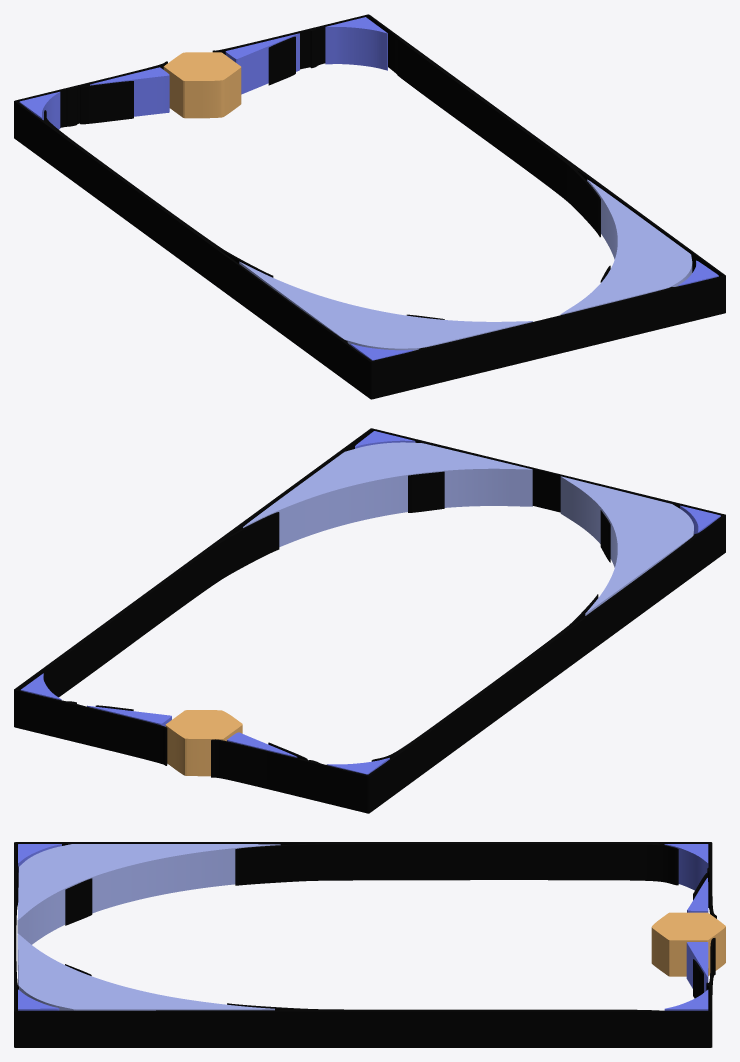
The picture shows the model from 3 angles, top to bottom: view 1: azimuth 30°, elevation 25°; view 2: azimuth 150°, elevation 25°; view 3: azimuth 270°, elevation 25°; orthographic projection. The views are drawn at different scales.
Parts seen in each view (by area): view 1: imagetostl_mesh4, imagetostl_mesh1, imagetostl_mesh3, imagetostl_mesh5, imagetostl_mesh26, imagetostl_mesh20, imagetostl_mesh6, imagetostl_mesh27, imagetostl_mesh16, imagetostl_mesh14, imagetostl_mesh8, imagetostl_mesh2; view 2: imagetostl_mesh4, imagetostl_mesh2, imagetostl_mesh1, imagetostl_mesh3, imagetostl_mesh5, imagetostl_mesh0, imagetostl_mesh26, imagetostl_mesh27, imagetostl_mesh12; view 3: imagetostl_mesh4, imagetostl_mesh0, imagetostl_mesh1, imagetostl_mesh3, imagetostl_mesh5, imagetostl_mesh26, imagetostl_mesh27, imagetostl_mesh10, imagetostl_mesh18, imagetostl_mesh2, imagetostl_mesh15, imagetostl_mesh17 (+4 smaller).
Boxes of the visible parts, x1,y1,x2,y2 form: imagetostl_mesh4: (14,15,725,399); imagetostl_mesh1: (240,262,532,348); imagetostl_mesh3: (561,179,692,314); imagetostl_mesh5: (14,14,725,362); imagetostl_mesh26: (163,67,241,118); imagetostl_mesh20: (325,27,387,70); imagetostl_mesh6: (80,81,133,124); imagetostl_mesh27: (164,52,240,80); imagetostl_mesh16: (90,75,169,116); imagetostl_mesh14: (225,33,299,94); imagetostl_mesh8: (268,37,295,85); imagetostl_mesh2: (560,180,692,314); imagetostl_mesh4: (14,429,725,813); imagetostl_mesh2: (243,468,532,547); imagetostl_mesh1: (561,476,693,613); imagetostl_mesh3: (243,442,532,527); imagetostl_mesh5: (14,428,725,776); imagetostl_mesh0: (560,477,693,615); imagetostl_mesh26: (165,725,242,776); imagetostl_mesh27: (165,710,242,738); imagetostl_mesh12: (408,471,444,512); imagetostl_mesh4: (14,843,716,1047); imagetostl_mesh0: (17,844,280,944); imagetostl_mesh1: (17,844,278,919); imagetostl_mesh3: (17,933,274,1009); imagetostl_mesh5: (14,842,716,1011); imagetostl_mesh26: (651,927,725,976); imagetostl_mesh27: (652,912,725,940); imagetostl_mesh10: (65,878,92,925); imagetostl_mesh18: (664,844,708,890); imagetostl_mesh2: (17,935,274,1010); imagetostl_mesh15: (687,942,708,976); imagetostl_mesh17: (687,878,708,910).
Size of the model in its own units: 9999 by 1000 by 17766.
